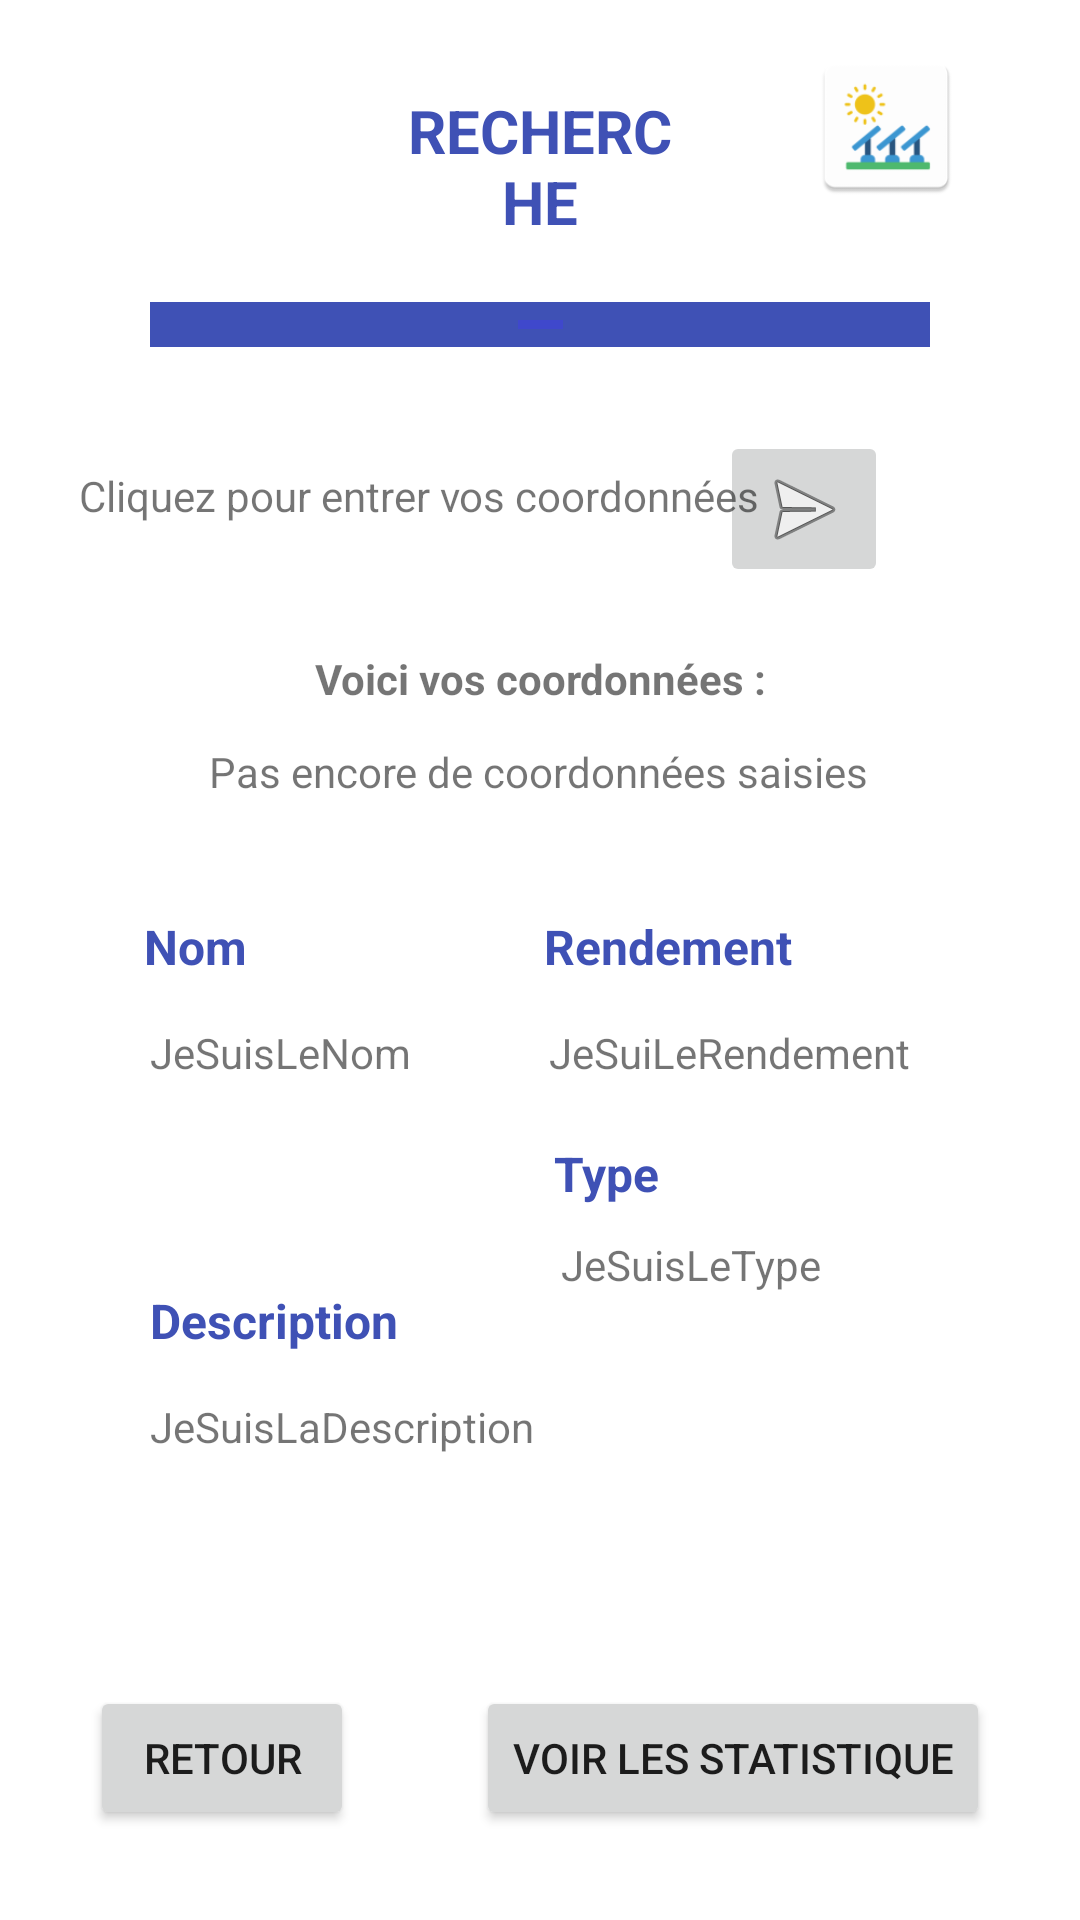

Point at icon controls on the screen. Image size 1080 x 1920, points as [x,y].
Envoie donnees: [798,509]
Photo representant un panneau: [887,131]
